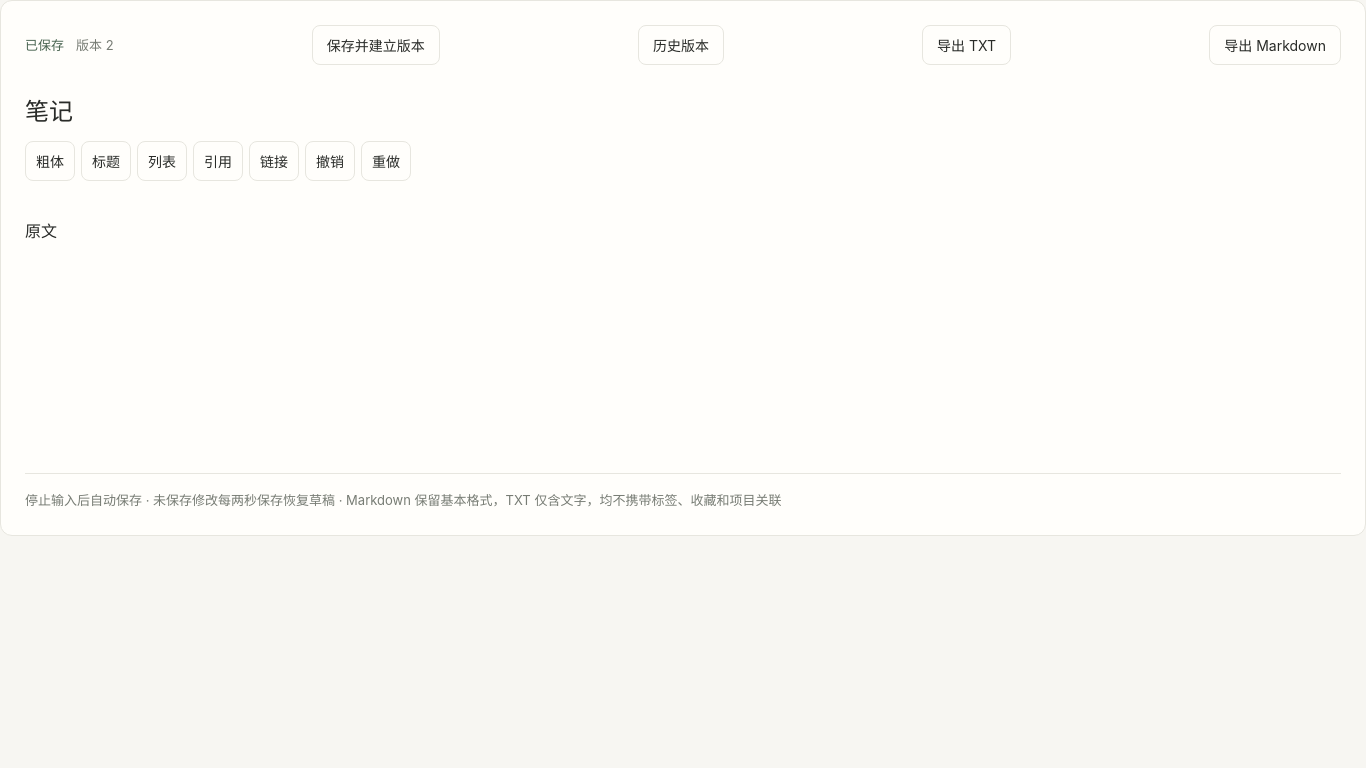
it: 打开编辑器及导出期间的可编辑状态切换不会制造用户修改或额外保存
Check: the message reads "已保存", box [25,37,64,53]
Click the button "导出 TXT" at [966, 45], box [922,25,1011,65]
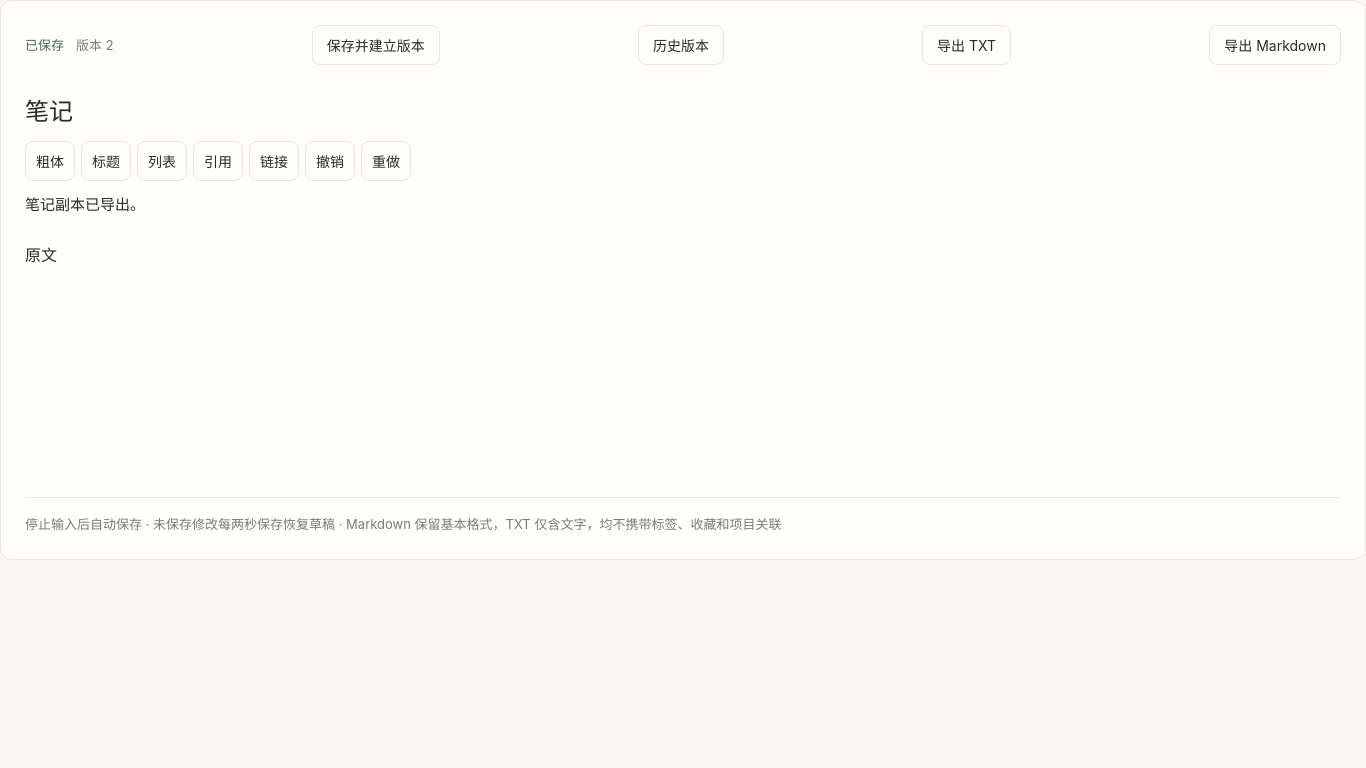
Check: the message "已保存" is shown, box [25,35,64,55]
Check: the text "笔记副本已导出。" is shown, box [25,195,145,214]
